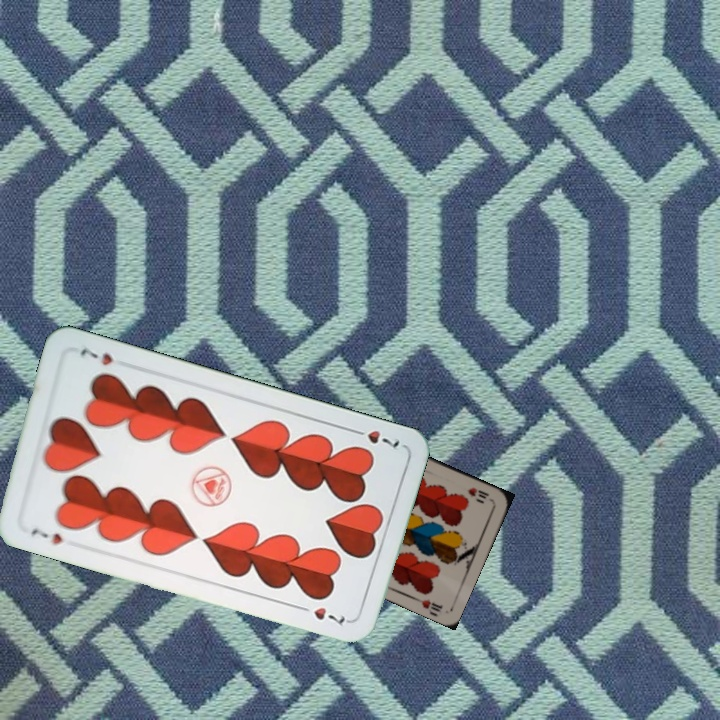H10: (463, 483, 495, 504)
H7: (347, 424, 403, 452), (27, 524, 66, 547)
